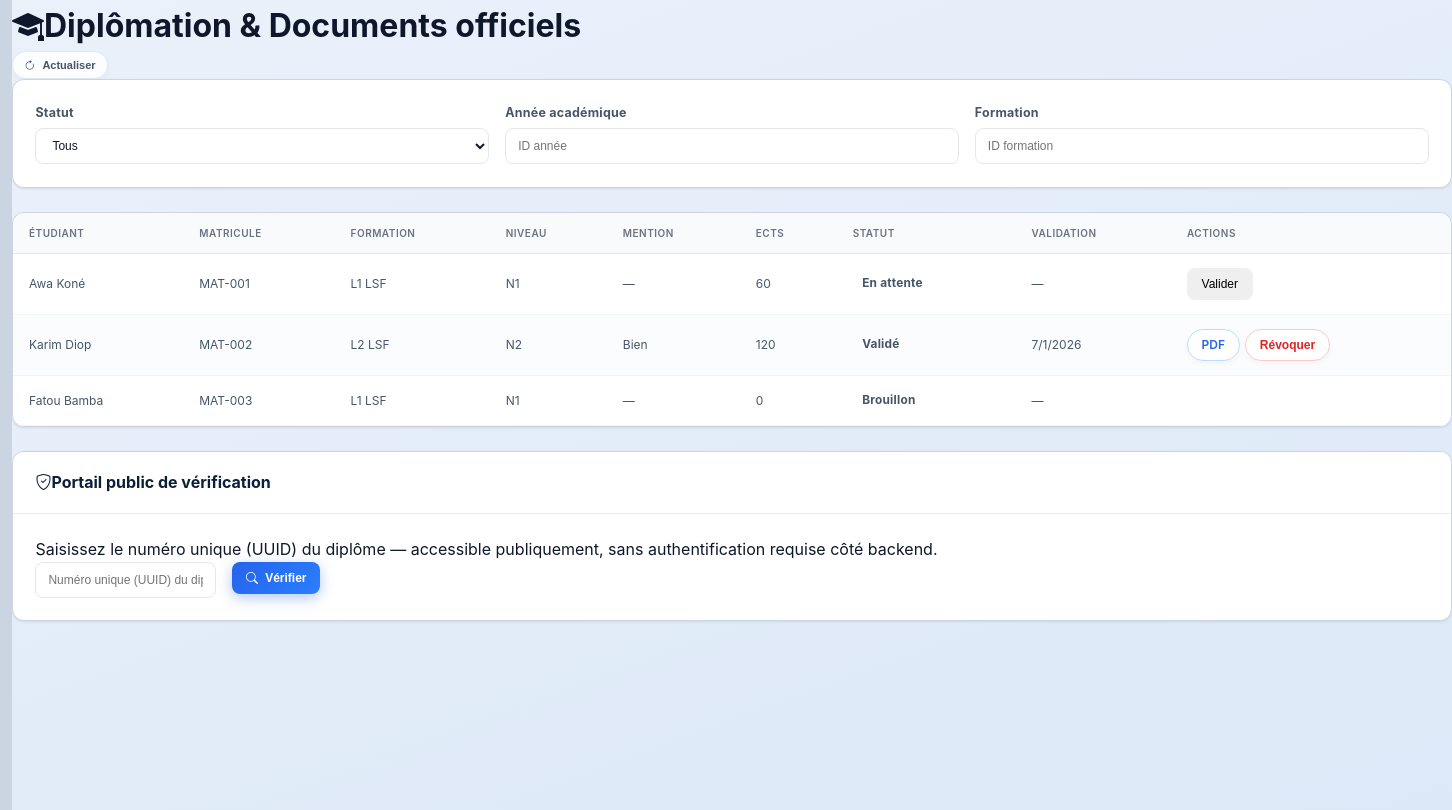
Test: pages/scolarite/Graduation — validation et révocation › valide un diplôme en attente après confirmation, notifie et recharge
The image size is (1452, 810).
Expected: the text "MAT-001" is shown, [183, 254, 335, 314]
Click the button "Valider": [1220, 284] box [1187, 268, 1253, 300]
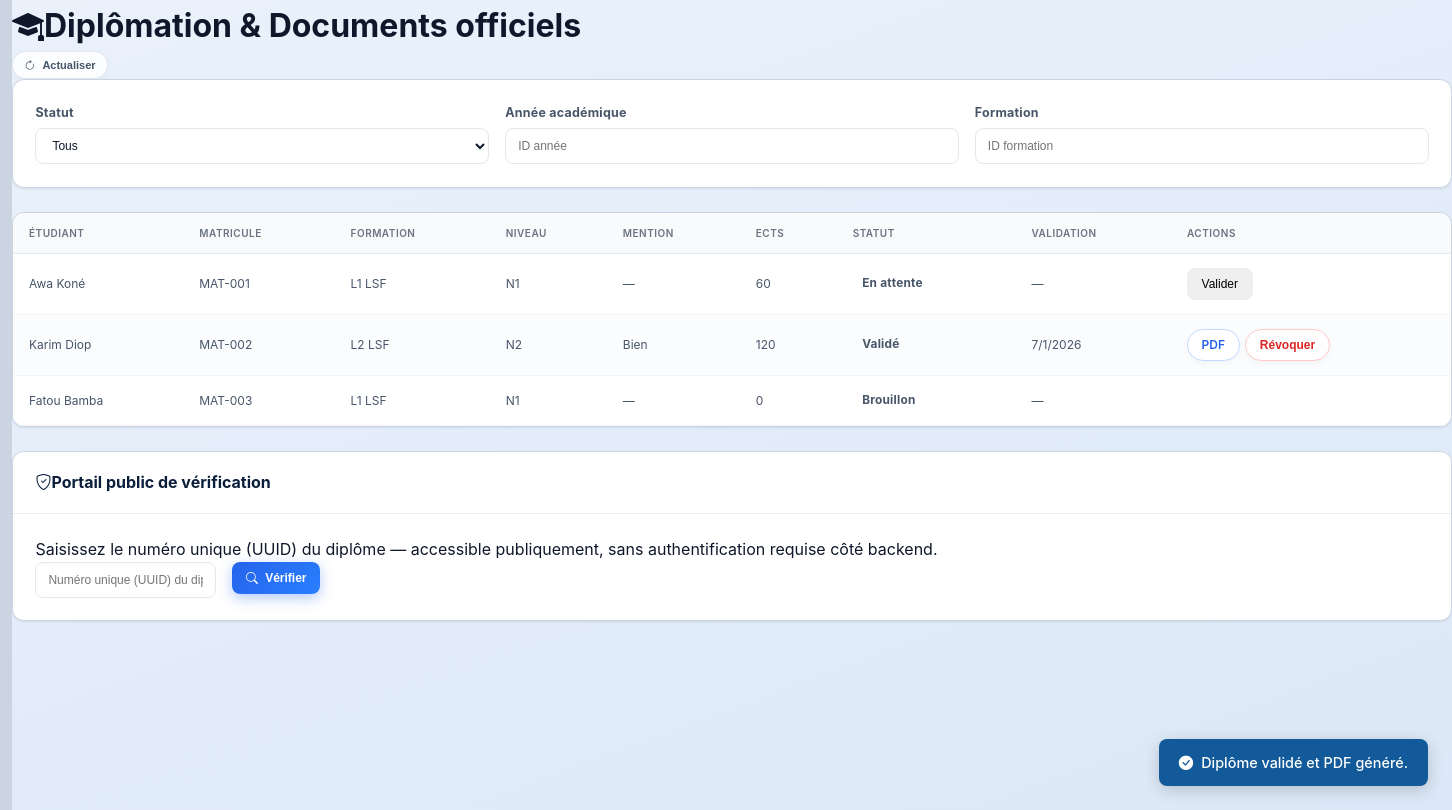
Expected: the text "Diplôme validé et PDF généré." is shown, [1159, 739, 1428, 786]
